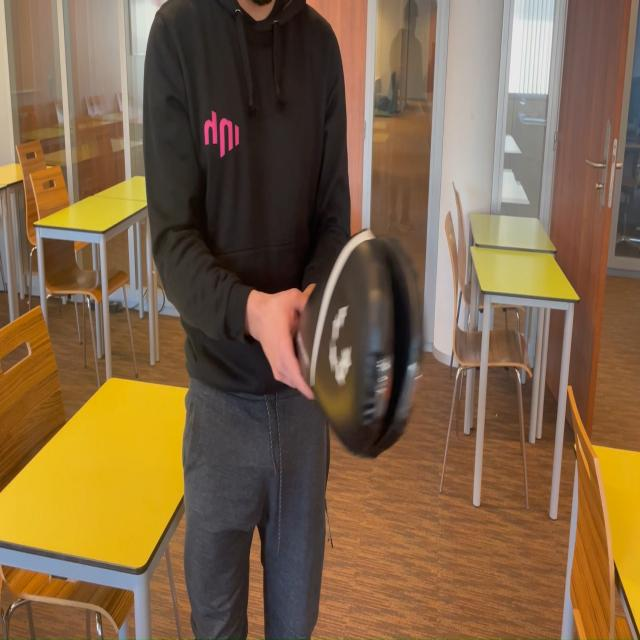paddle: (300, 236, 412, 448)
